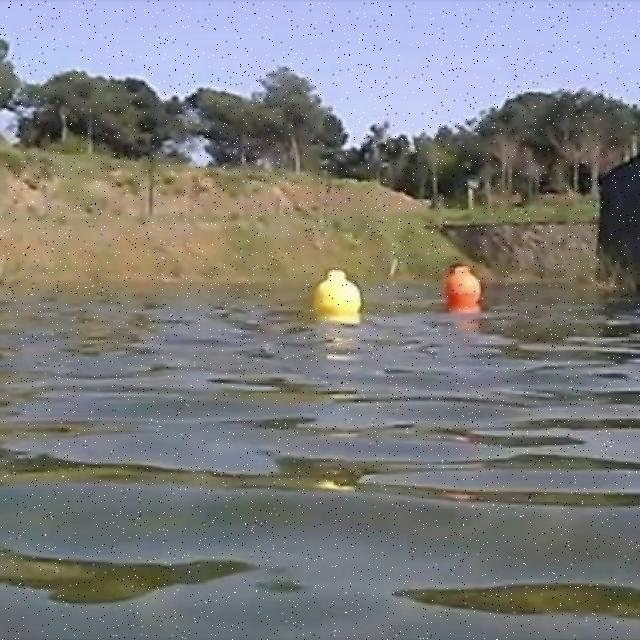buoy: (314, 274, 357, 324), (446, 265, 486, 308)
